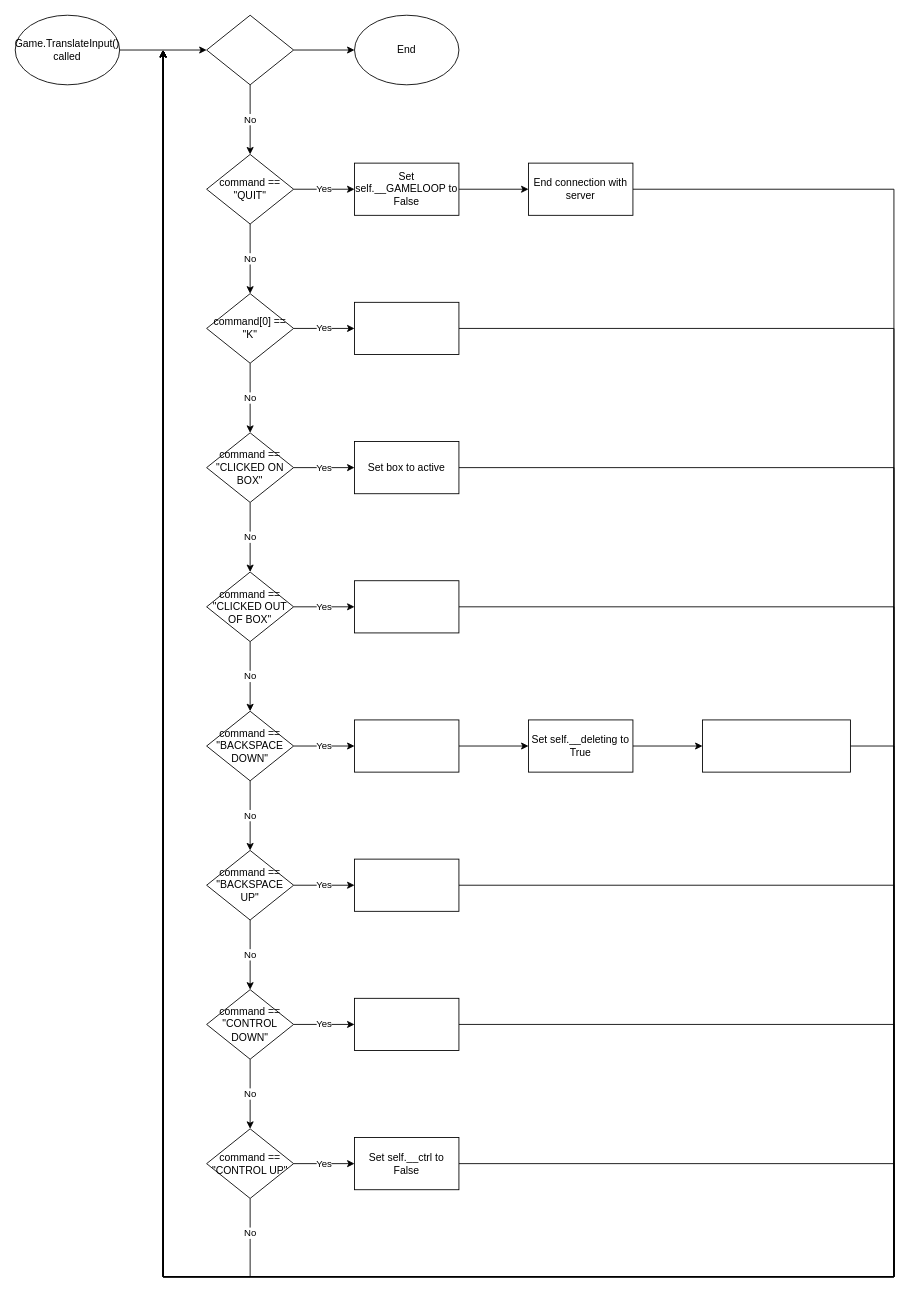
Image size: 916x1299. Some labels were removed from this diagram. The shapes that lost their labels are listed below. From the top down, each one's centre as x and y in pixels, then its label:
At point (250, 49): "Have all commands been checked?".
At point (406, 328): "Add letter to textbox".
At point (406, 606): "Set box to dormant".
At point (406, 745): "Delete a letter".
At point (776, 745): "set self.__timeSinceLastBackspace to -200".
At point (406, 884): "Set self.__deleting to False".
At point (406, 1024): "Set self.__ctrl to True".
